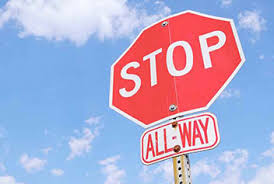SS: (107, 13, 245, 119)
